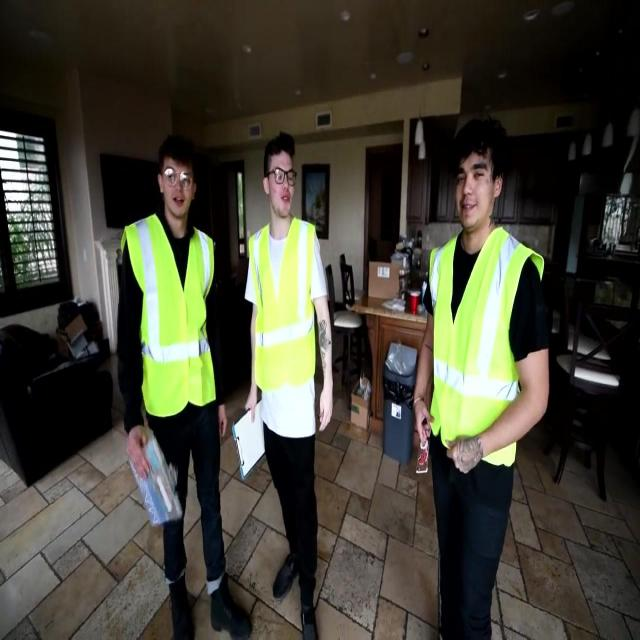Reflective-Jacket: (422, 227, 548, 466), (120, 213, 222, 423), (246, 212, 324, 430)
